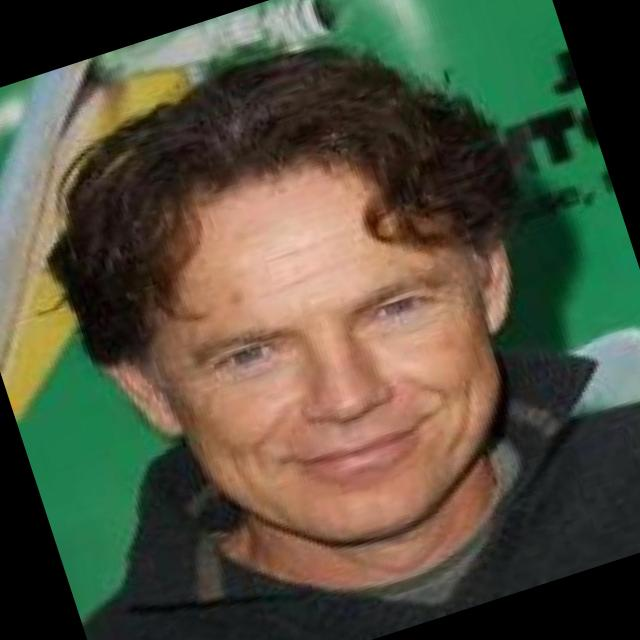bareface: (70, 26, 510, 560)
